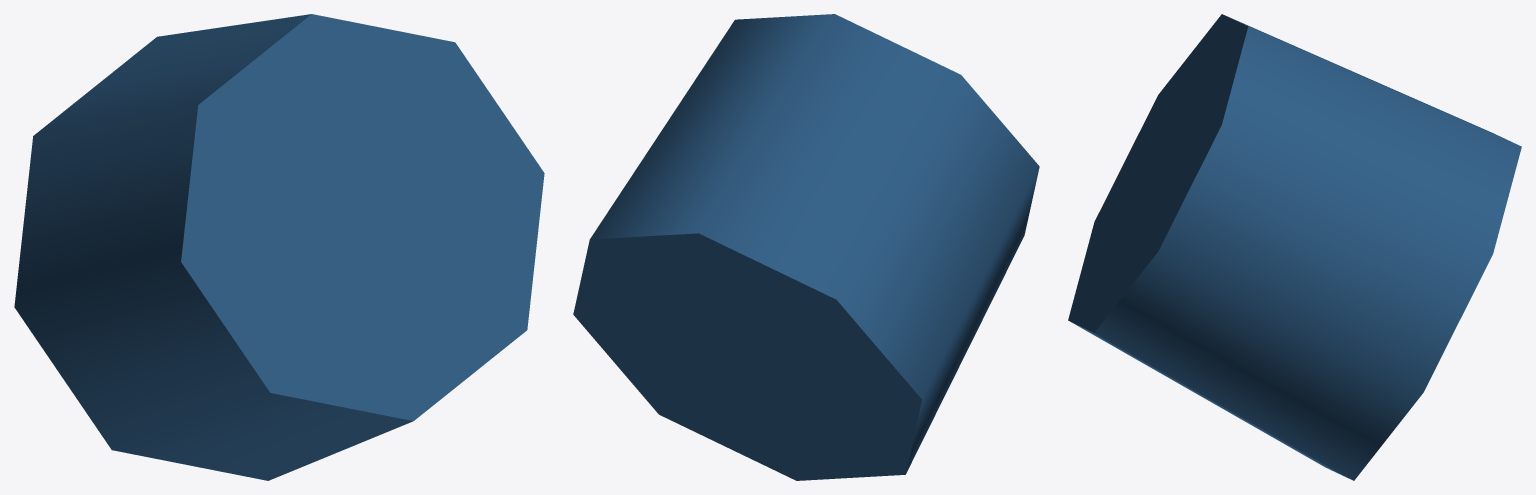
Rendered from rm2_neck.obj.
The picture shows the model from 3 angles, left to right: view 1: azimuth 30°, elevation 25°; view 2: azimuth 150°, elevation 25°; view 3: azimuth 270°, elevation 25°; orthographic projection. The views are drawn at different scales.
Parts seen in each view (by area): view 1: rm2_neck; view 2: rm2_neck; view 3: rm2_neck.
Part boxes in pixels (x1,y1,x2,y2): rm2_neck: (14, 14, 544, 480); rm2_neck: (573, 14, 1039, 480); rm2_neck: (1068, 14, 1521, 480).
Bounding box in the file's own units: 0.12 × 0.1442 × 0.1345.
